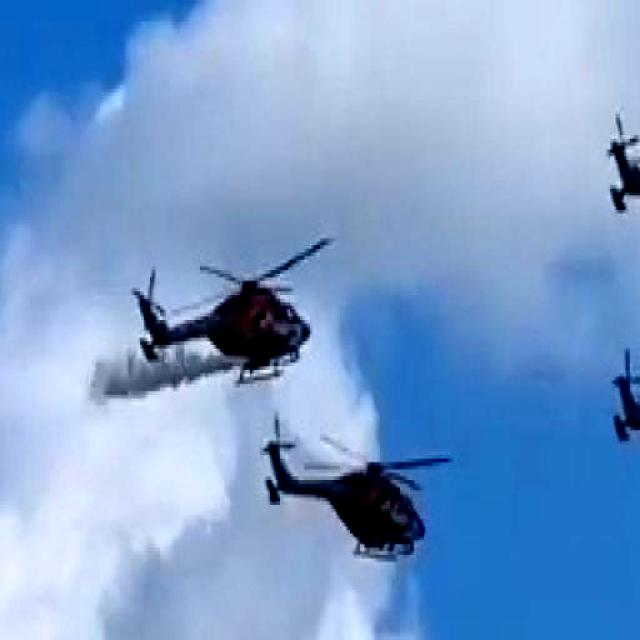drone: (130, 234, 339, 389), (259, 414, 451, 568)
